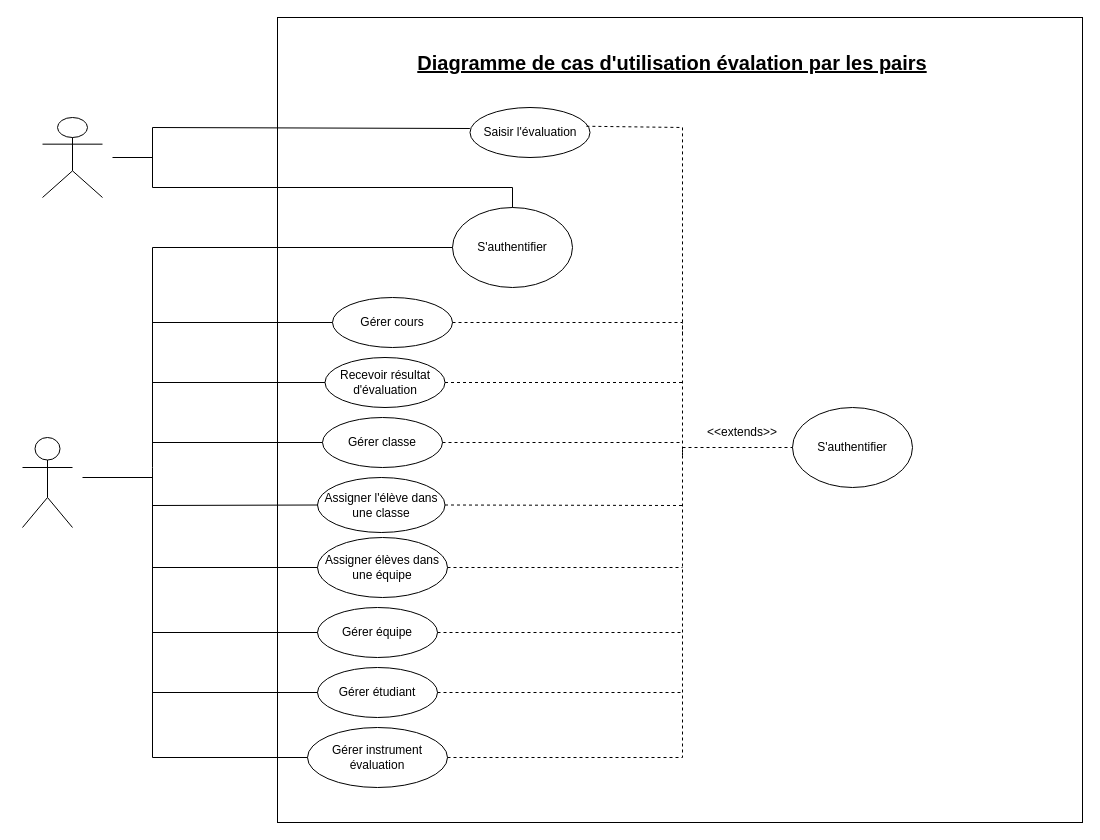
Some shapes in this 1100 by 840 pixel diagram are drawn without their labels. The centre of each missing label's shape, as x and y in pixels:
Enseignant: point 47,482
Élève: point 72,157
